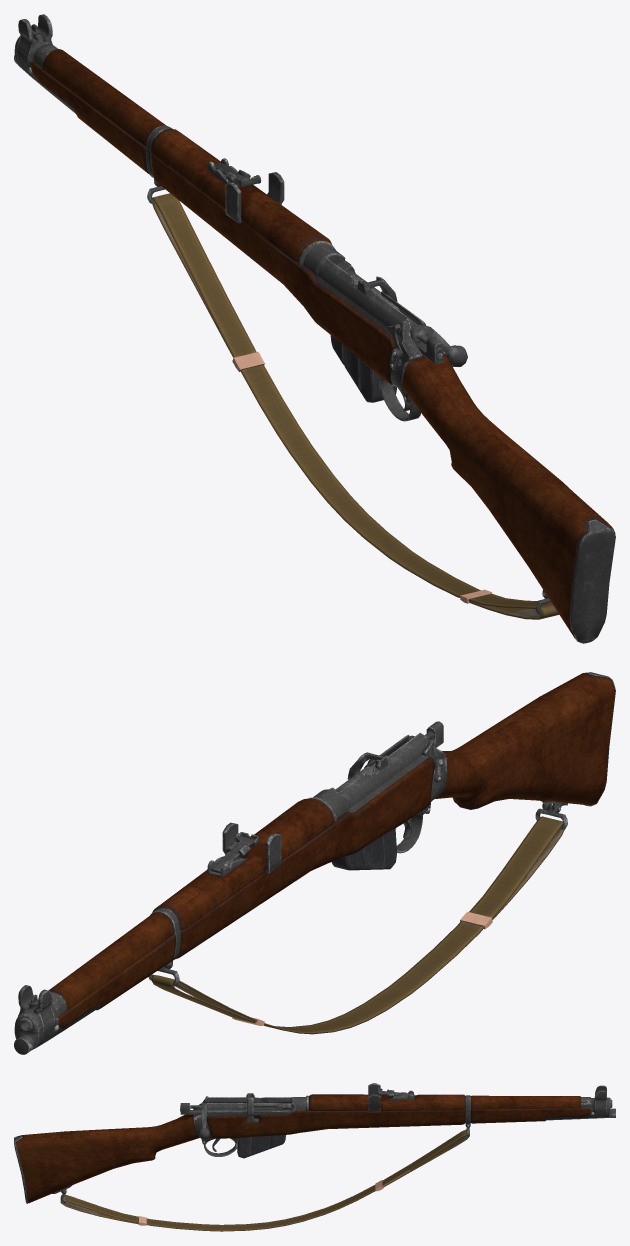
Rendered from enfield.glb.
3 renders of one model, top to bottom at view 1: azimuth 30°, elevation 25°; view 2: azimuth 150°, elevation 25°; view 3: azimuth 270°, elevation 25°, orthographic. The views are drawn at different scales.
Visible parts, largest first — view 1: source-Object_5, source-Object_7, source-Object_8, bolt-Object_6, source-Object_4; view 2: source-Object_5, source-Object_7, source-Object_8, source-Object_4, bolt-Object_6; view 3: source-Object_5, source-Object_7, source-Object_8, source-Object_4, bolt-Object_6.
Part boxes in pixels (x1,y1,x2,y2): source-Object_5: (31,49,615,638); source-Object_7: (14,14,615,643); source-Object_8: (152,193,558,619); bolt-Object_6: (346,270,467,366); source-Object_4: (330,335,396,402); source-Object_5: (49,672,615,1027); source-Object_7: (14,672,615,1054); source-Object_8: (151,816,564,1034); source-Object_4: (331,828,396,870); bolt-Object_6: (335,721,443,792); source-Object_5: (16,1094,590,1202); source-Object_7: (14,1083,615,1203); source-Object_8: (60,1129,469,1231); source-Object_4: (237,1135,285,1158); bolt-Object_6: (180,1102,282,1139).
Bounding box in the file's own units: 0.0837 × 0.291 × 1.13.
Materials: 5 (5 with a texture image).
